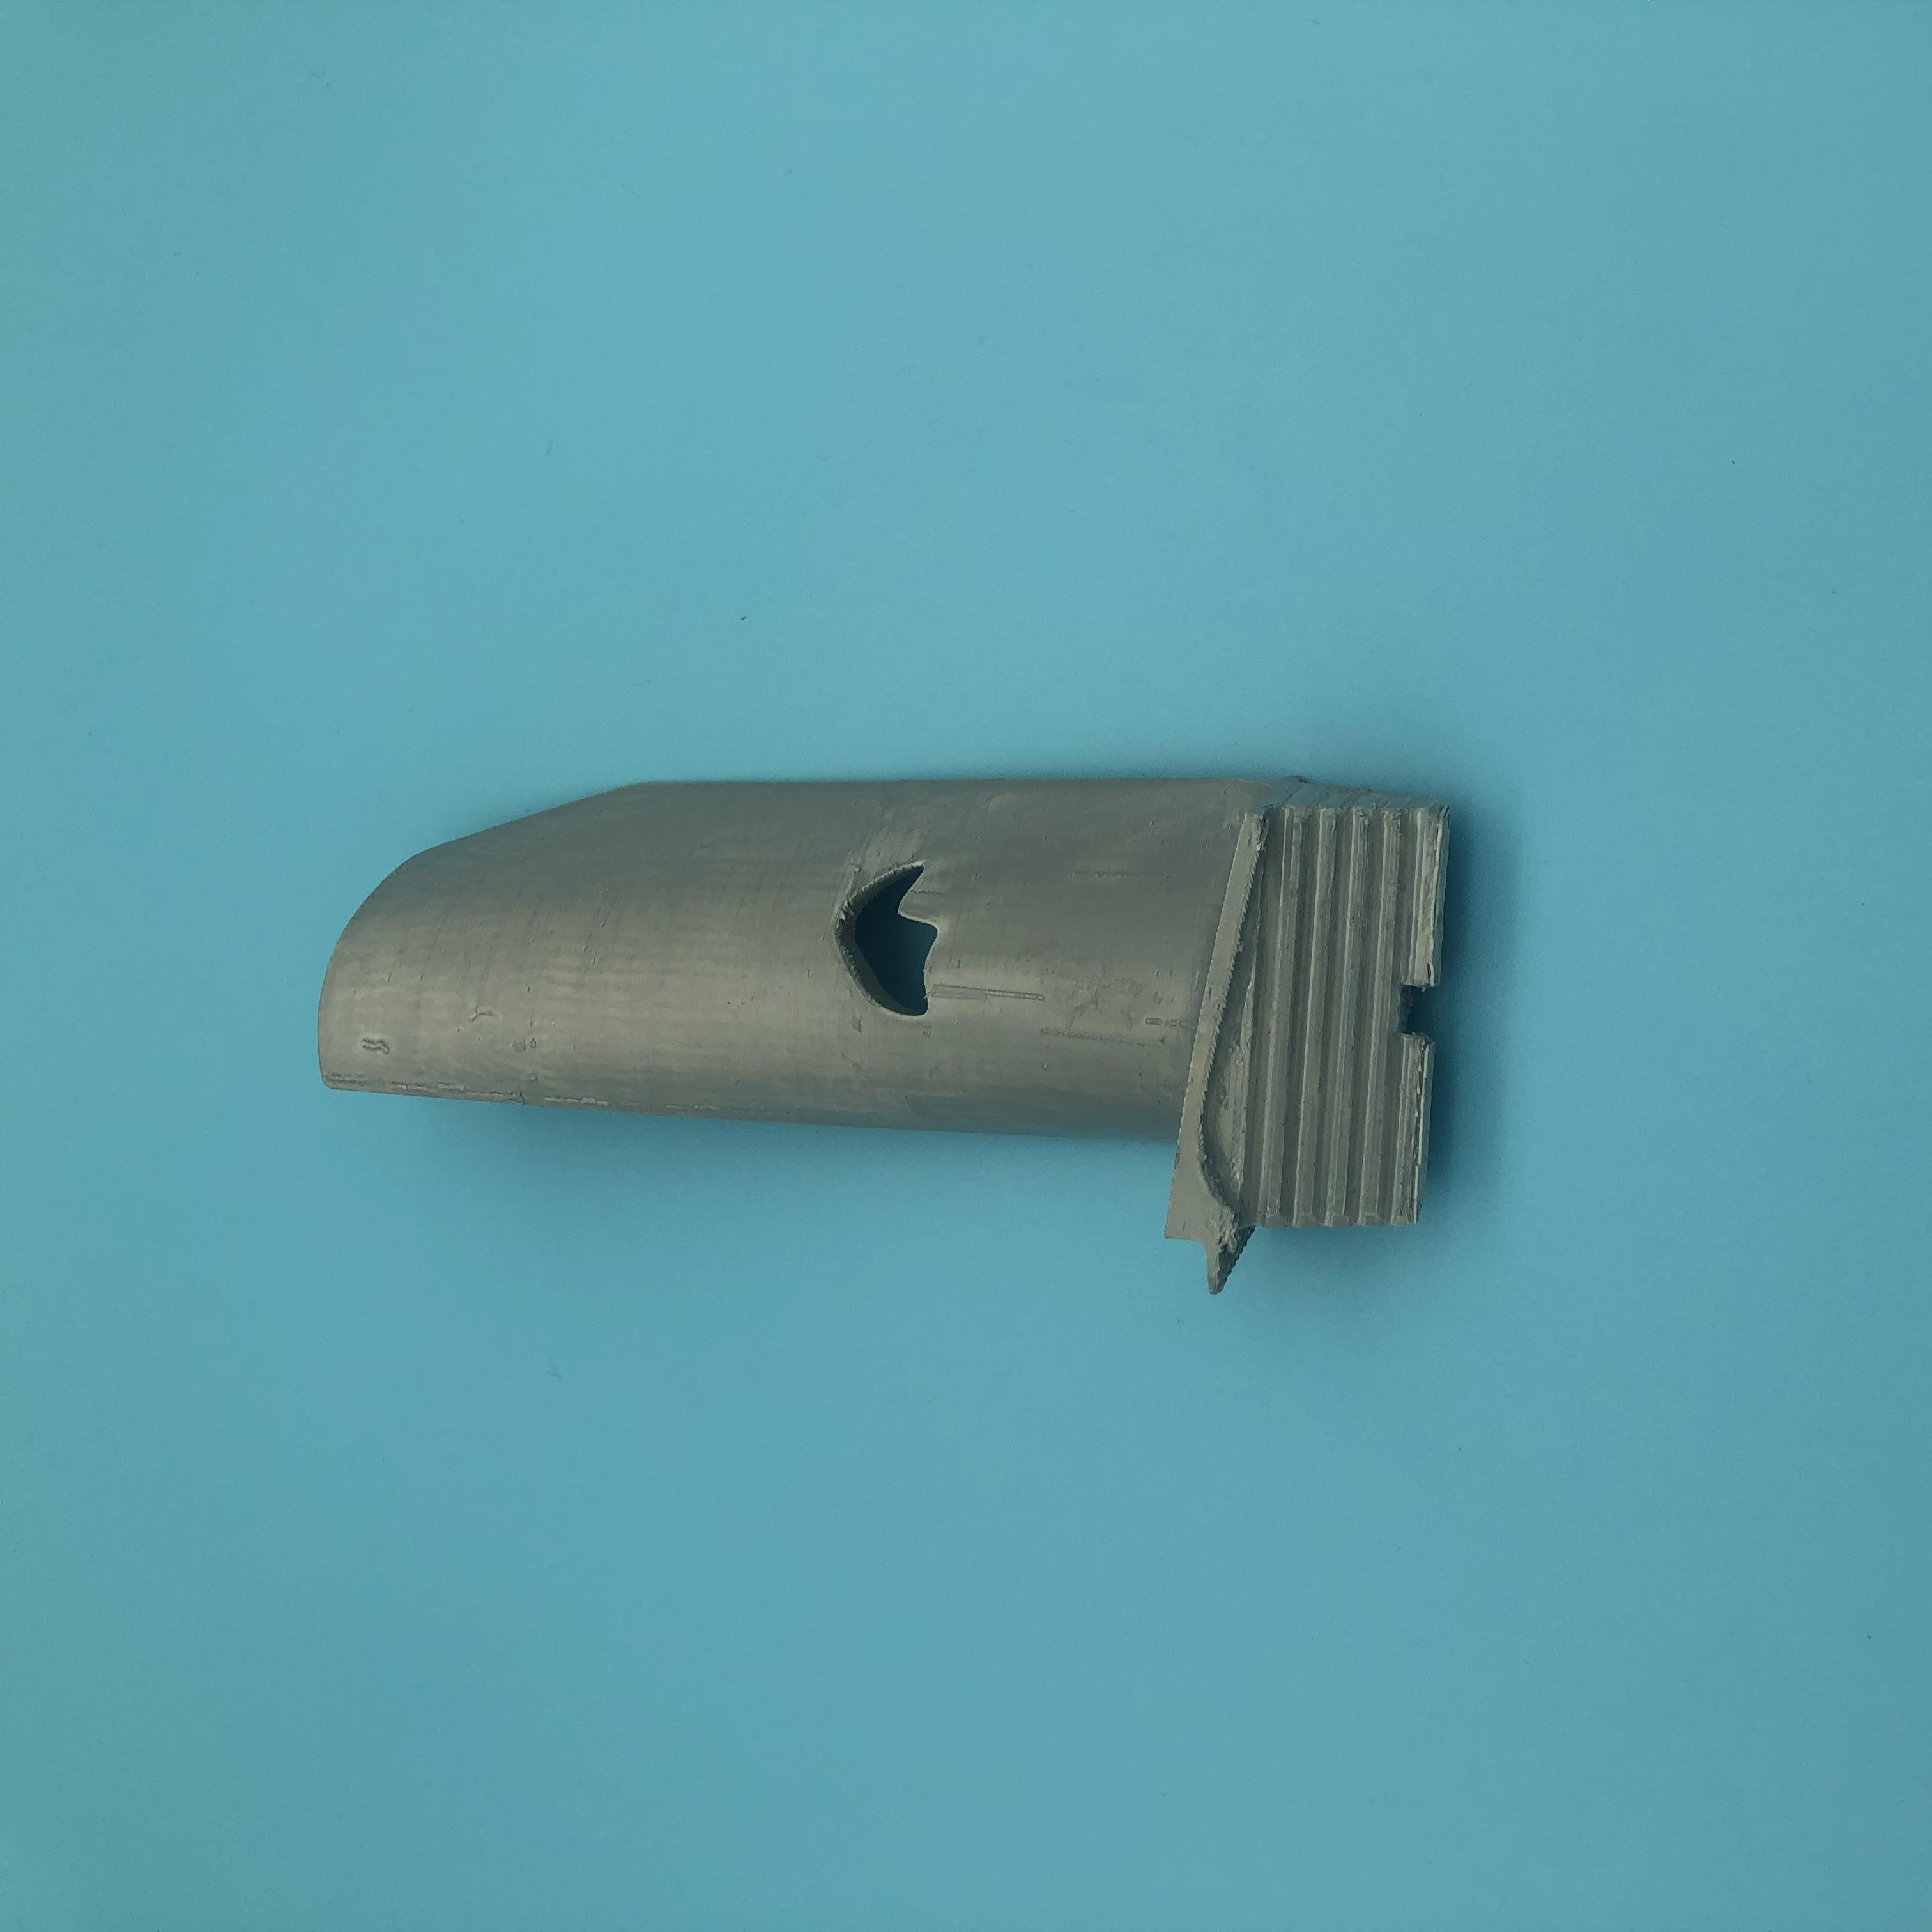breakdown: (821, 865, 966, 1035)
